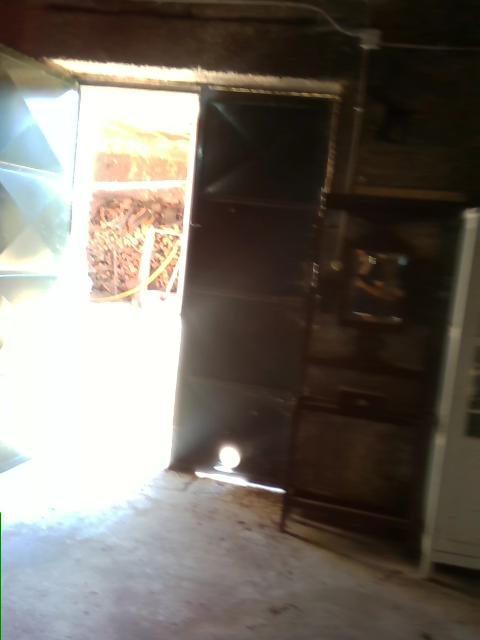open_door: (42, 72, 208, 474)
